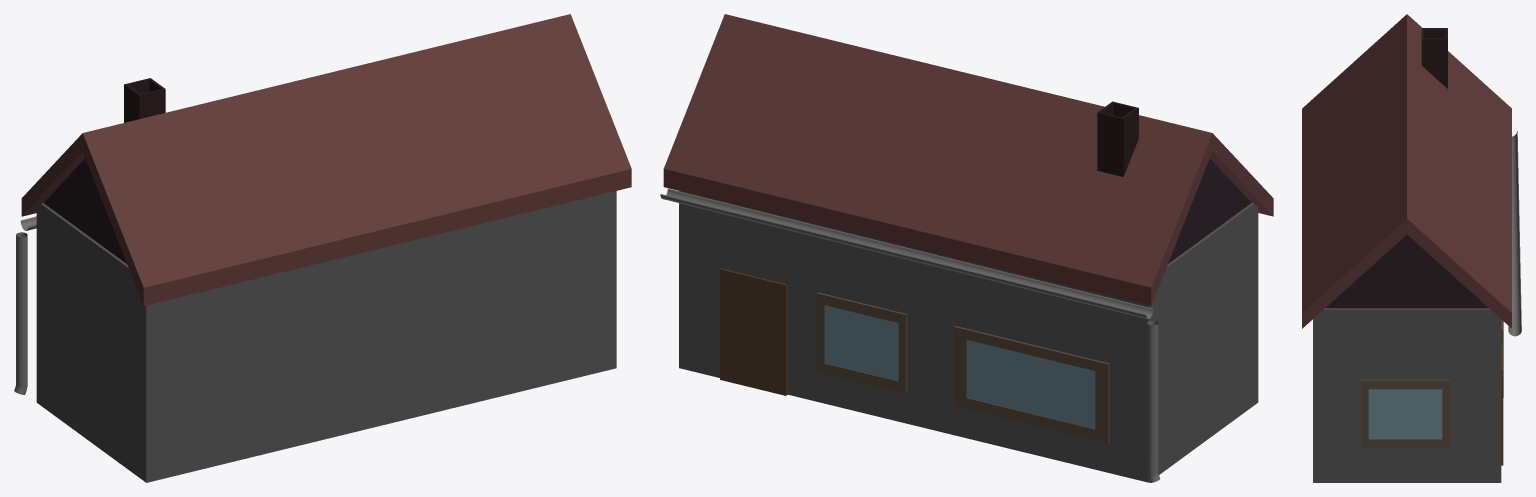
3 renders of one model, left to right at view 1: azimuth 30°, elevation 25°; view 2: azimuth 150°, elevation 25°; view 3: azimuth 270°, elevation 25°, orthographic. The views are drawn at different scales.
Parts seen in each view (by area): view 1: Cube, Куб, Куб.001, Цилиндр.001, Куб.006; view 2: Куб, Cube, Куб.002, Плоскость, Цилиндр, Куб.003, Плоскость.001, Куб.004, Куб.001, Куб.006, Цилиндр.001; view 3: Куб, Cube, Куб.001, Плоскость.002, Куб.005, Цилиндр, Куб.006, Куб.002.
Boxes of the visible parts, x1,y1,x2,y2 form: Cube: [36, 191, 616, 482]; Куб: [21, 14, 631, 305]; Куб.001: [44, 158, 126, 263]; Цилиндр.001: [14, 232, 27, 394]; Куб.006: [124, 78, 165, 122]; Куб: [663, 14, 1273, 305]; Cube: [679, 191, 1258, 482]; Куб.002: [720, 268, 787, 395]; Плоскость: [967, 340, 1095, 428]; Цилиндр: [660, 188, 1153, 319]; Куб.003: [953, 325, 1109, 443]; Плоскость.001: [825, 305, 898, 380]; Куб.004: [816, 292, 907, 393]; Куб.001: [1168, 158, 1251, 263]; Куб.006: [1097, 101, 1138, 176]; Цилиндр.001: [1147, 320, 1160, 482]; Куб: [1302, 14, 1511, 328]; Cube: [1313, 308, 1501, 482]; Куб.001: [1325, 234, 1488, 308]; Плоскость.002: [1368, 389, 1442, 438]; Куб.005: [1361, 379, 1449, 448]; Цилиндр: [1508, 131, 1521, 336]; Куб.006: [1421, 28, 1447, 88]; Куб.002: [1501, 343, 1503, 465].
Size of the model in its own units: 2825 by 1787 by 1263.
